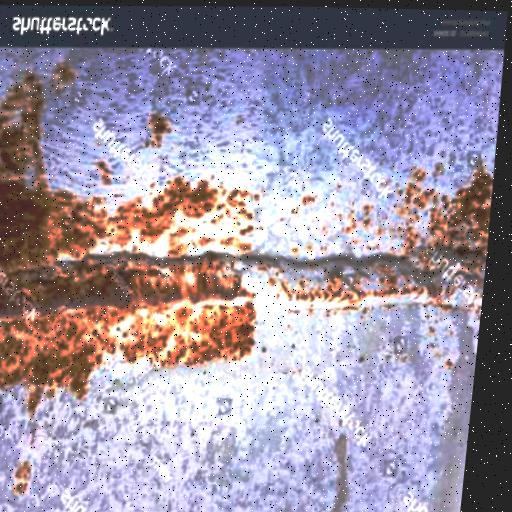corrosion: (0, 62, 285, 395), (383, 173, 495, 259)
